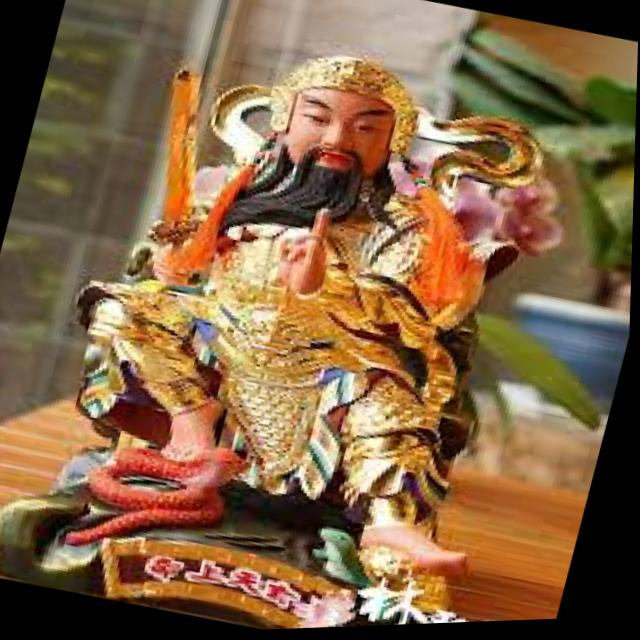Xuan wu: (60, 0, 587, 603)
